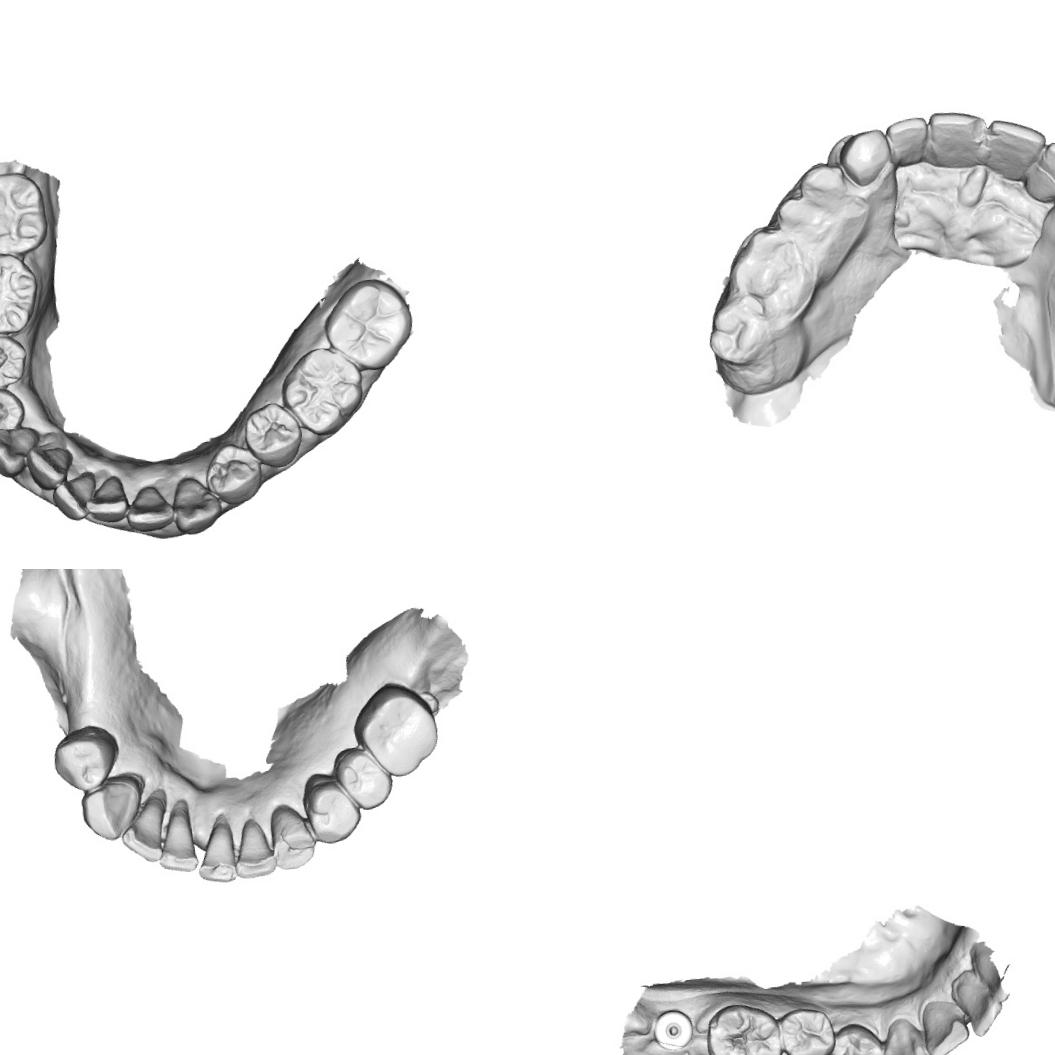canine: (75, 773, 146, 845), (168, 470, 226, 538), (836, 120, 896, 185), (268, 801, 319, 875), (876, 1010, 936, 1055), (0, 422, 43, 481)
implant: (650, 1004, 697, 1055)
incisor: (982, 108, 1048, 184), (946, 967, 1008, 1041), (926, 104, 989, 175), (116, 796, 169, 868), (192, 812, 241, 889), (149, 806, 201, 876), (229, 816, 281, 883), (918, 995, 971, 1055), (120, 481, 177, 536), (50, 471, 102, 525), (885, 112, 932, 168), (81, 473, 130, 526), (1022, 135, 1055, 199), (26, 440, 72, 485)
molar: (316, 272, 418, 379), (346, 674, 444, 782), (274, 342, 370, 442), (720, 224, 812, 322), (702, 292, 775, 371), (700, 998, 787, 1055), (0, 167, 52, 261), (0, 247, 46, 341)
premolar: (46, 722, 125, 798), (298, 767, 364, 849), (237, 399, 306, 474), (330, 742, 394, 816), (201, 440, 267, 508), (794, 156, 854, 212), (777, 1001, 838, 1055), (826, 1016, 888, 1055), (0, 330, 32, 393), (0, 383, 25, 445)
